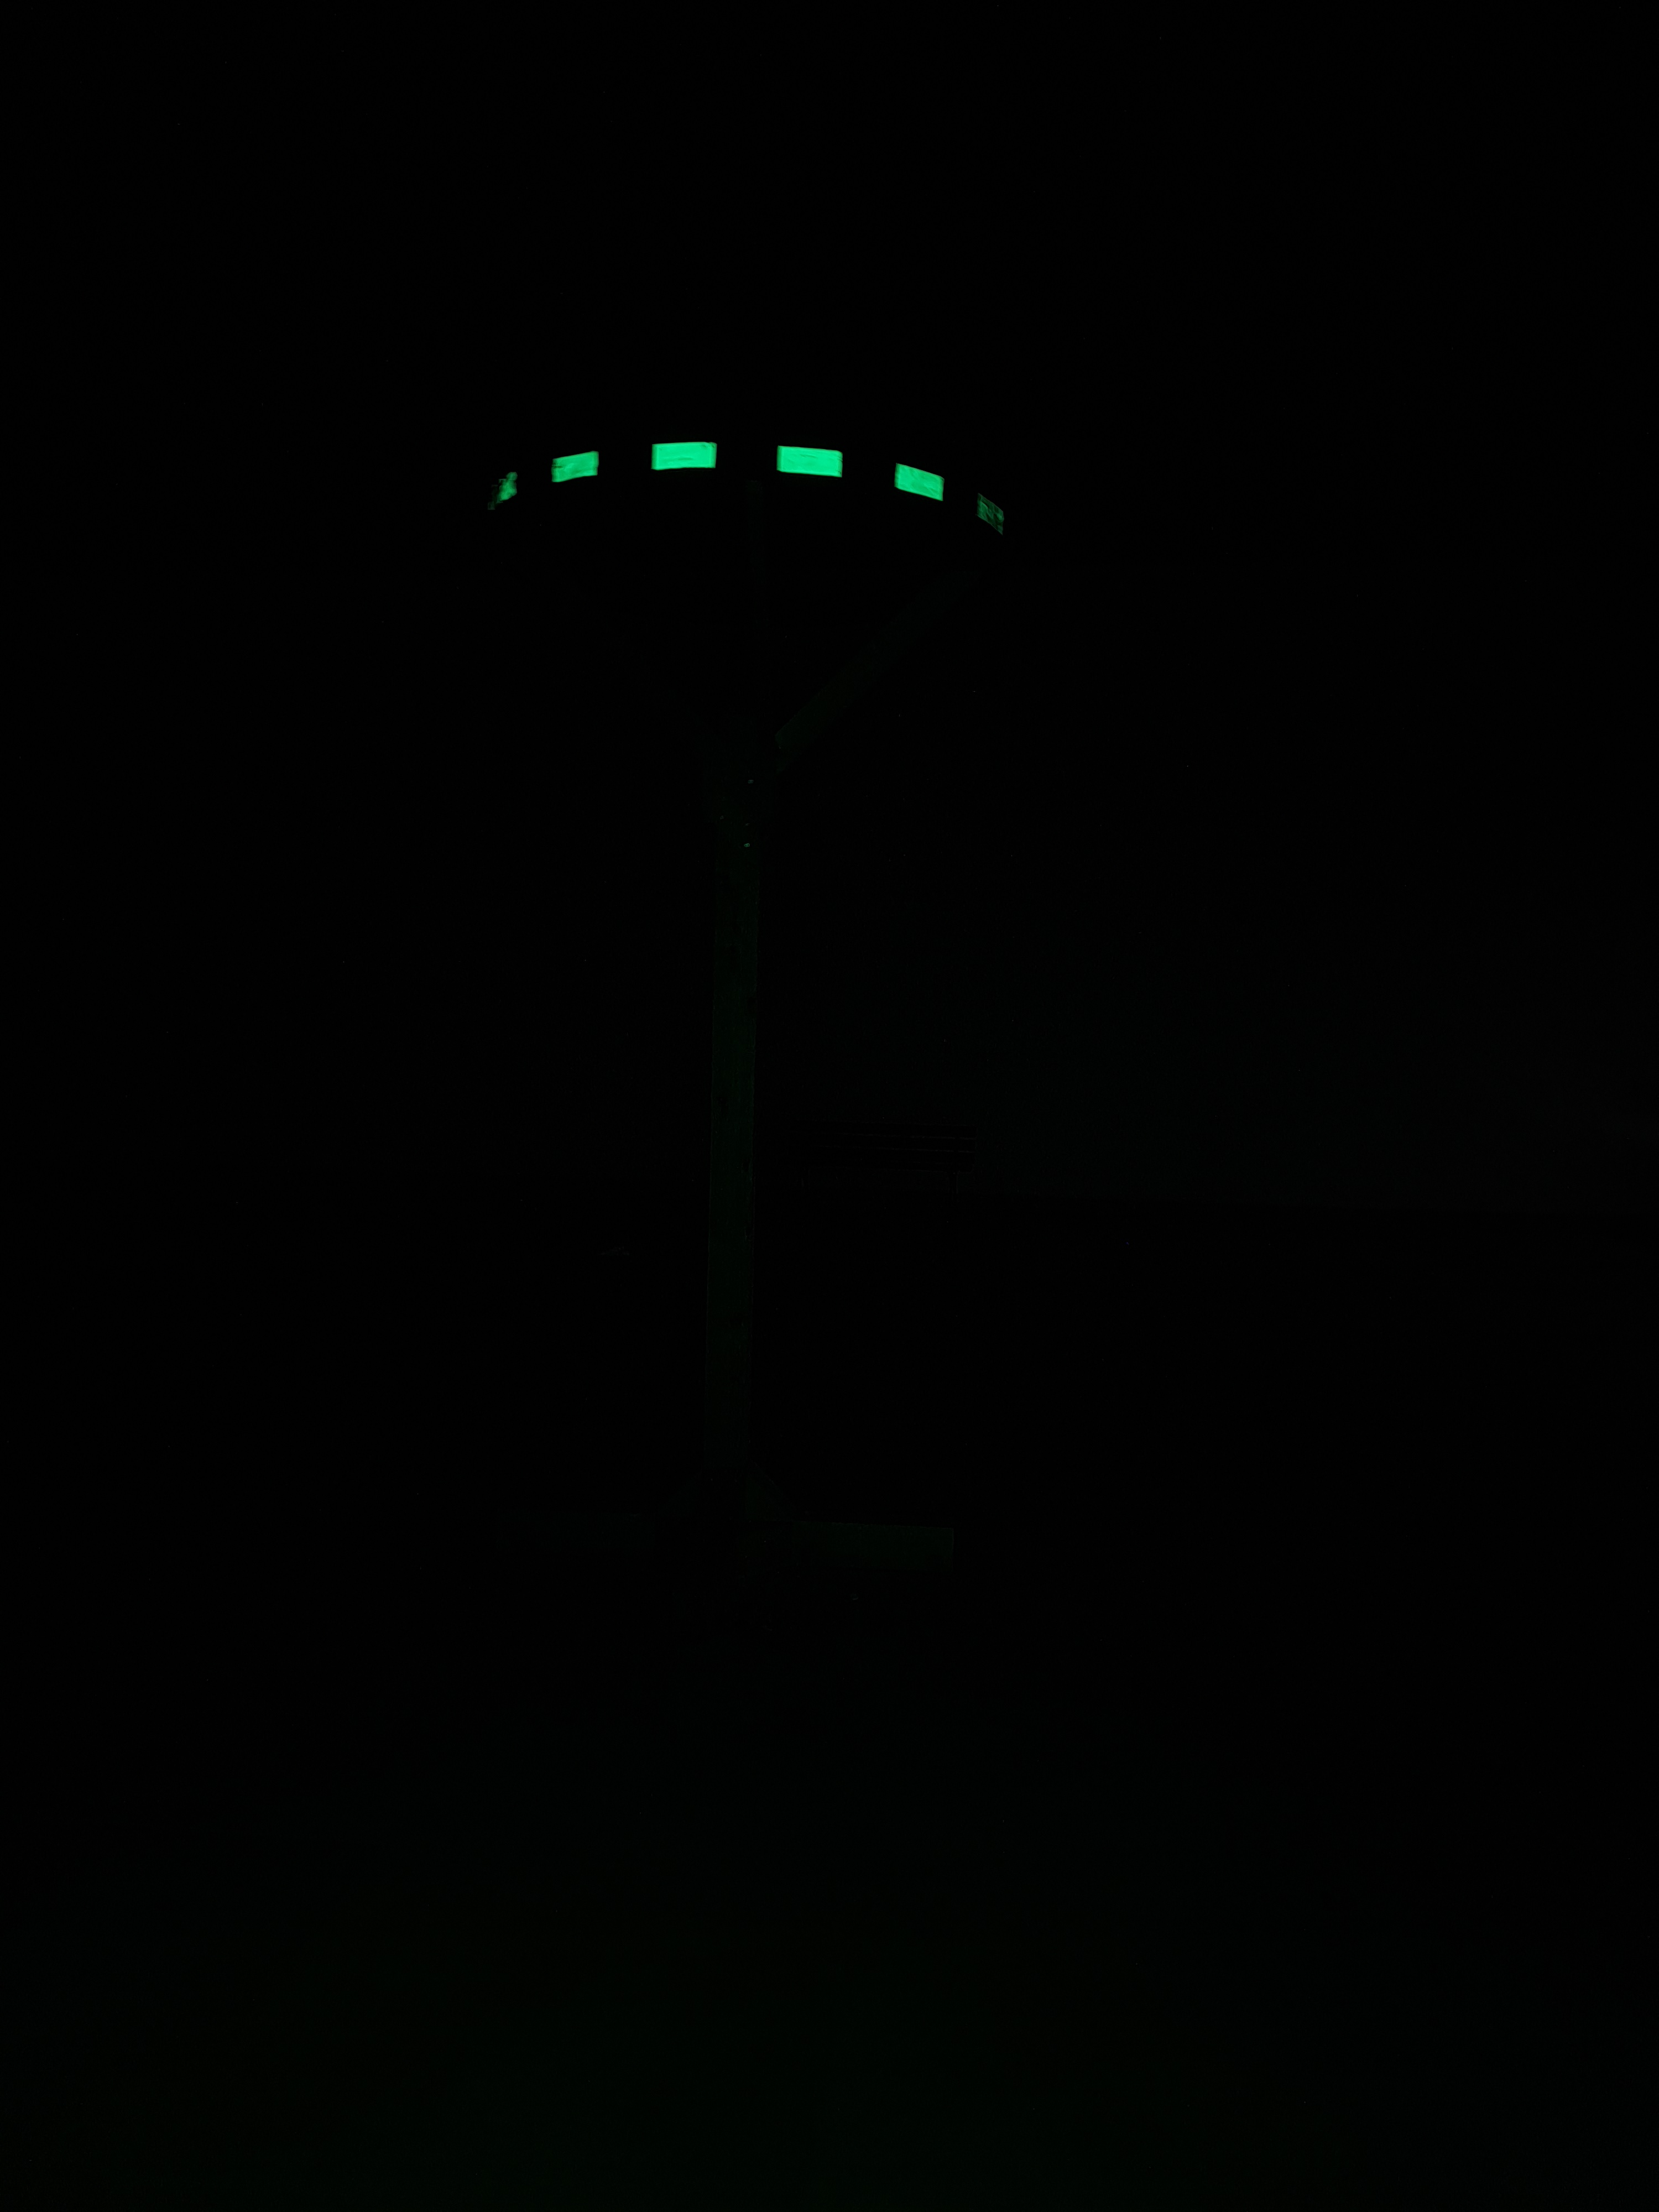hoop: (469, 434, 1007, 536)
